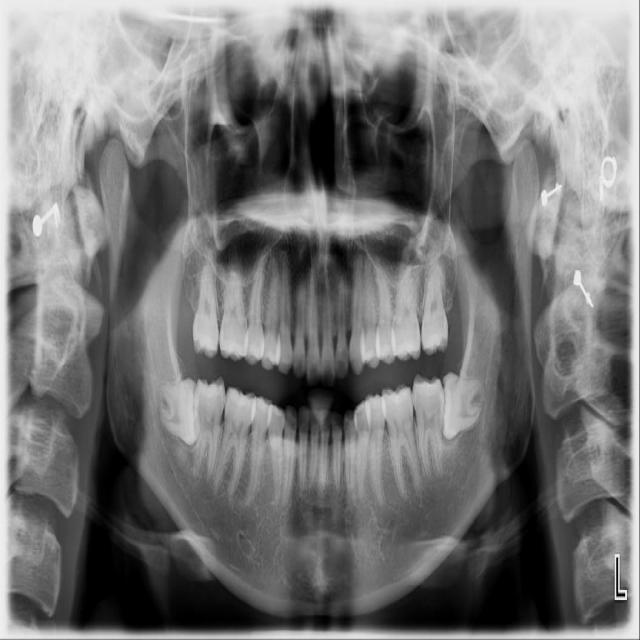impacted tooth: (443, 372, 488, 440), (157, 377, 198, 444)
